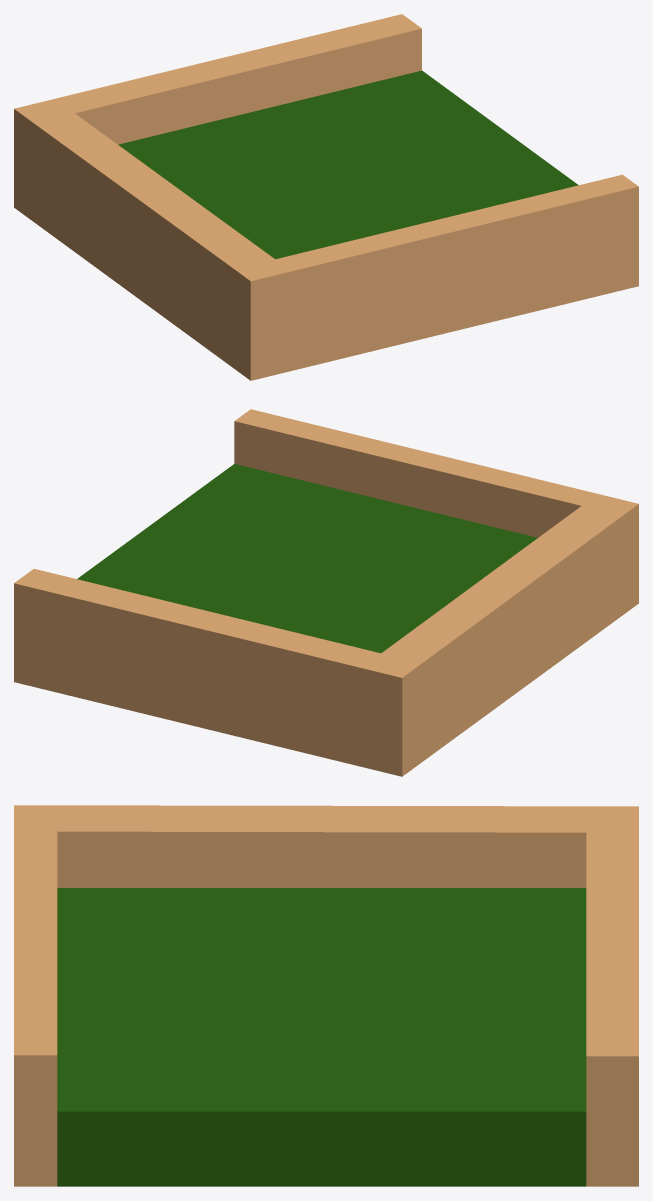
Rendered from Lego1.fbx.
The picture shows the model from 3 angles, top to bottom: view 1: azimuth 30°, elevation 25°; view 2: azimuth 150°, elevation 25°; view 3: azimuth 270°, elevation 25°; orthographic projection. The views are drawn at different scales.
Visible parts, largest first — view 1: Cube.004, Cube.013; view 2: Cube.004, Cube.013; view 3: Cube.013, Cube.004.
Part boxes in pixels (bbox=[...]): Cube.004: bbox=[14, 14, 638, 380]; Cube.013: bbox=[118, 70, 578, 259]; Cube.004: bbox=[14, 409, 638, 776]; Cube.013: bbox=[77, 464, 537, 653]; Cube.013: bbox=[57, 888, 586, 1186]; Cube.004: bbox=[14, 805, 638, 1186].
Bounding box in the file's own units: 171 × 41.99 × 181.
